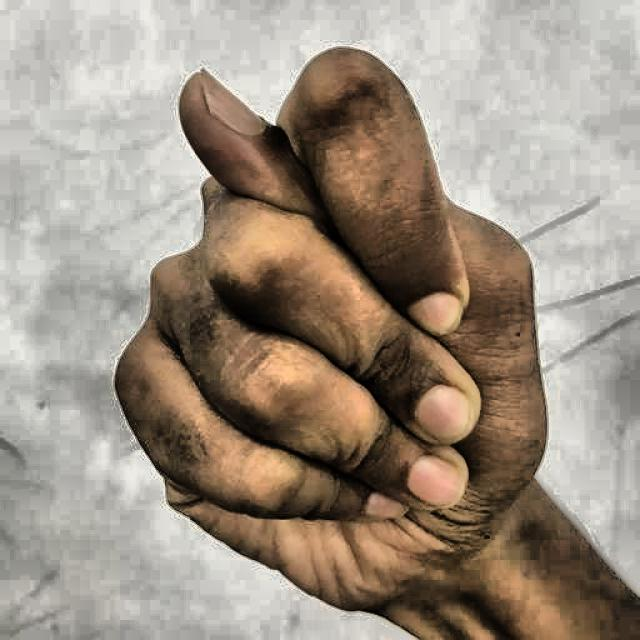Ta: (92, 30, 585, 634)
